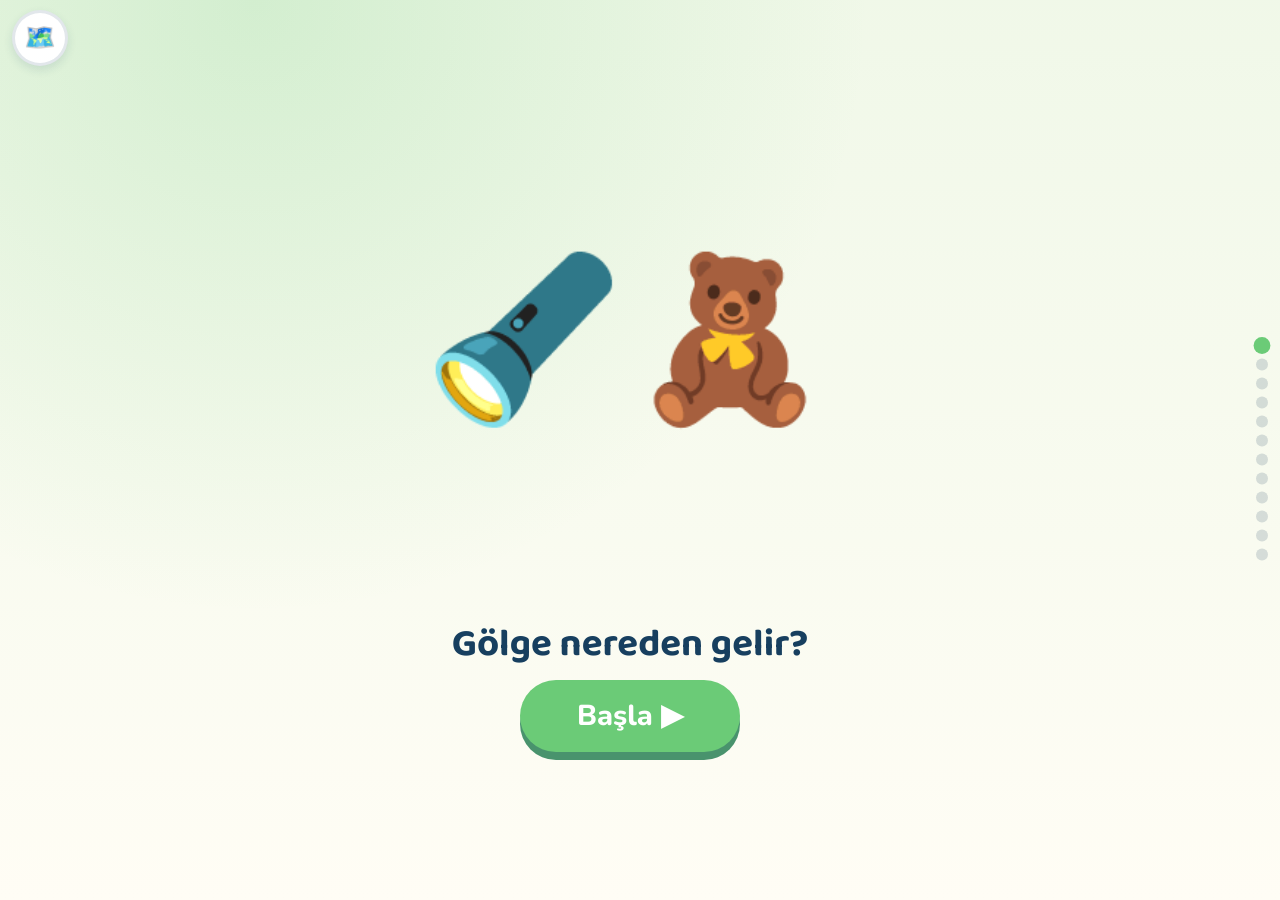
Test: CapsuleFeed › reads the prompt and the choice labels in order with a highlight; a tap skips
The image size is (1280, 900).
Later steps or results of the test are not shown.
Click the button "Başla ▶".
click(630, 716)  # box [520,680,740,752]
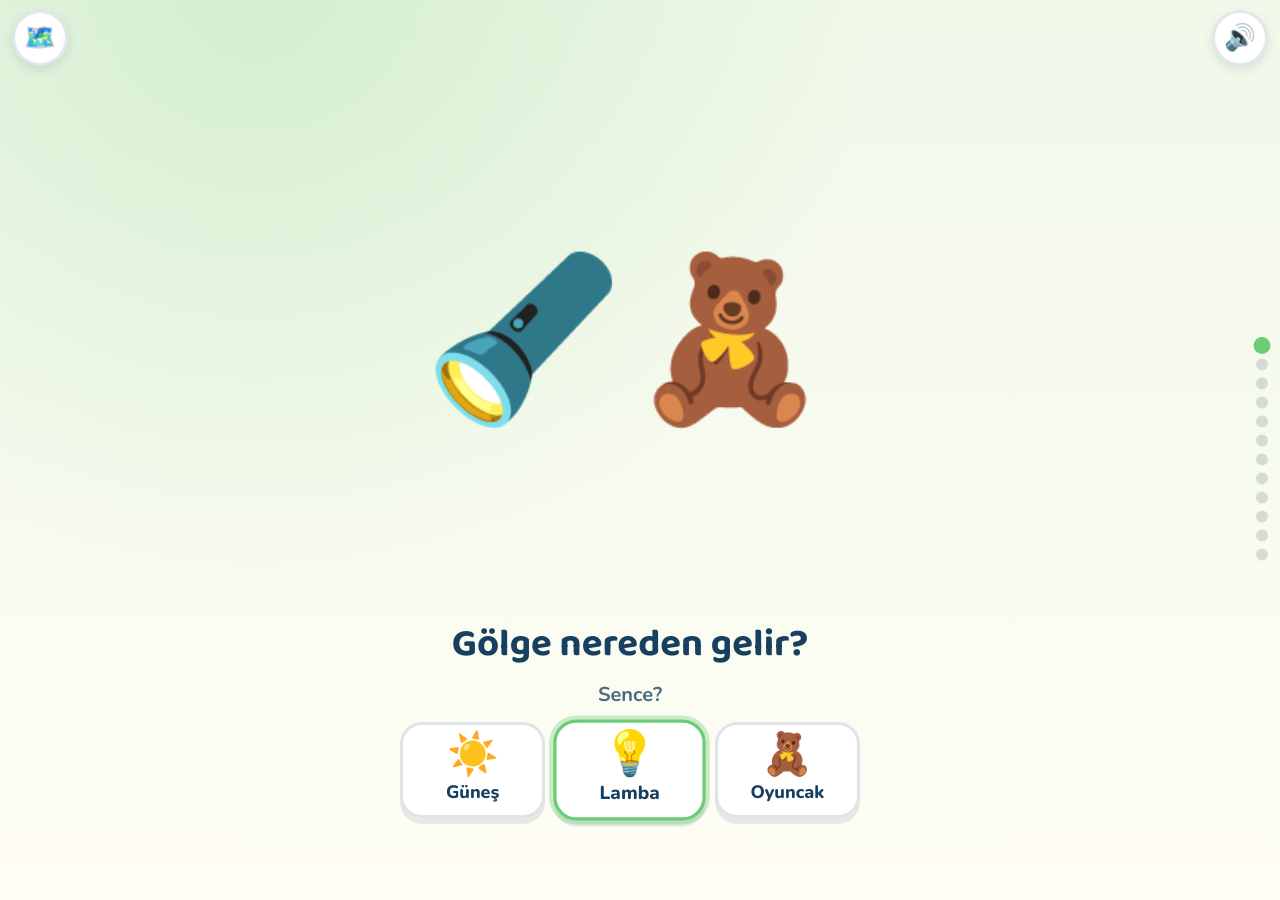
Expected: the button with class "is-reading" shows "Güneş", [400,722,545,818]
